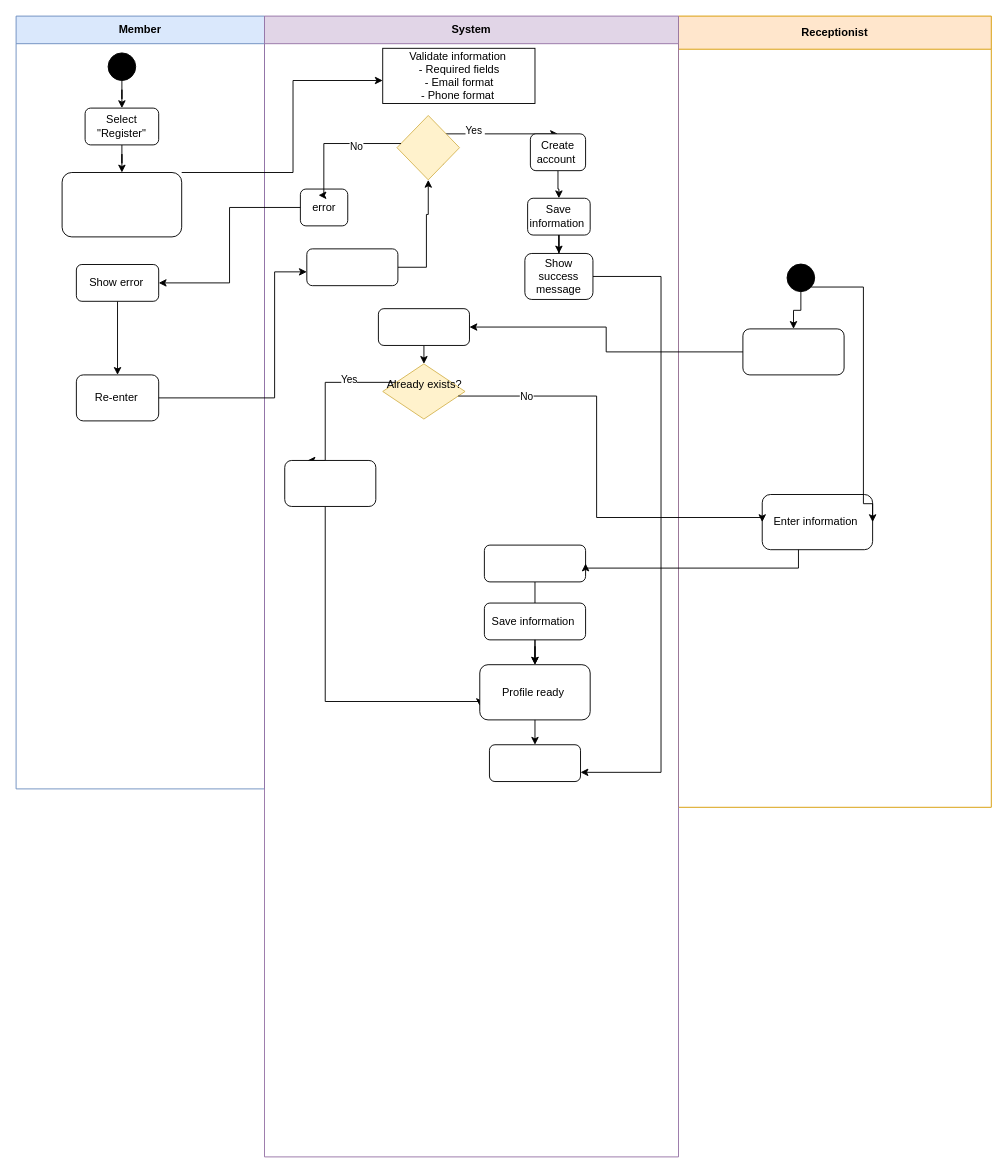
The diagram is 1007 pixels wide and 1173 high, and some of its shapes have lost their labels. The box of each missing label's shape, as (x1, y1, x2, y2) in pixels:
Create profile: (483, 544, 586, 582)
End: (489, 744, 581, 782)
Enter account information: (61, 172, 182, 237)
Enter Email / Phone: (742, 328, 844, 375)
Search member: (377, 308, 469, 345)
Use existing profile: (284, 460, 376, 506)
Valid and unique?: (396, 115, 460, 180)
Validate information: (306, 248, 398, 286)
